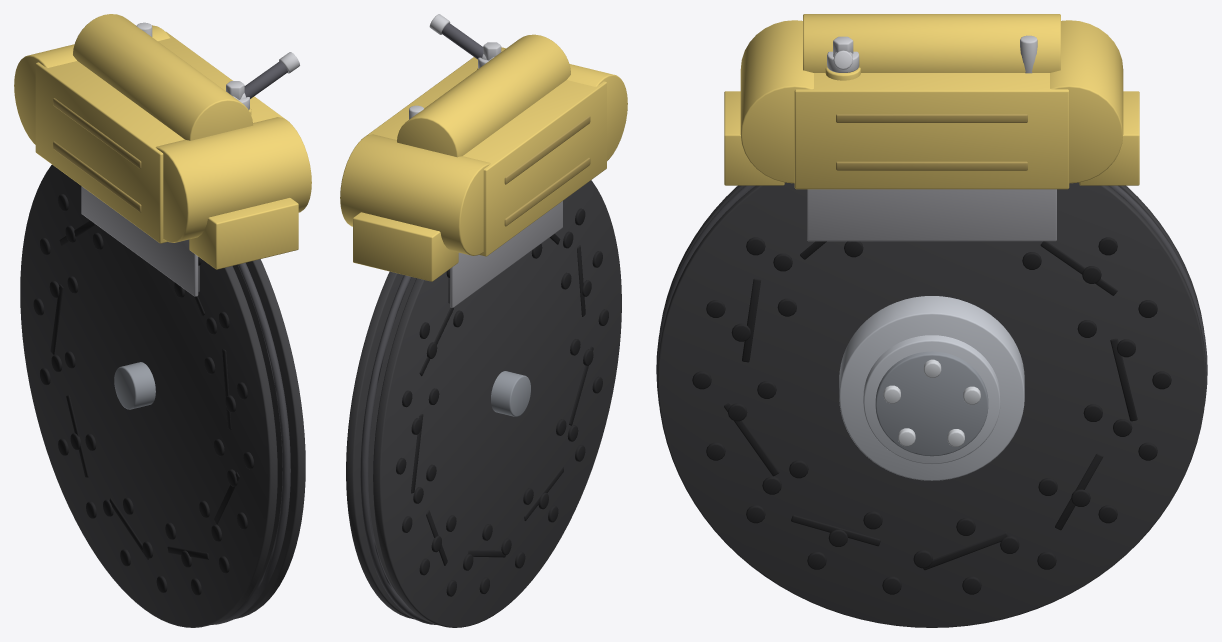
Rendered from brake.glb.
3 renders of one model, left to right at view 1: azimuth 30°, elevation 25°; view 2: azimuth 150°, elevation 25°; view 3: azimuth 270°, elevation 25°, orthographic. The views are drawn at different scales.
Parts seen in each view (by area): view 1: brake; view 2: brake; view 3: brake.
Boxes of the visible parts, x1,y1,x2,y2 form: brake: [14, 14, 311, 627]; brake: [340, 14, 627, 627]; brake: [656, 14, 1207, 627].
Bounding box in the file's own units: 0.2528 × 0.843 × 0.6834.
5 materials, 5 textured.
